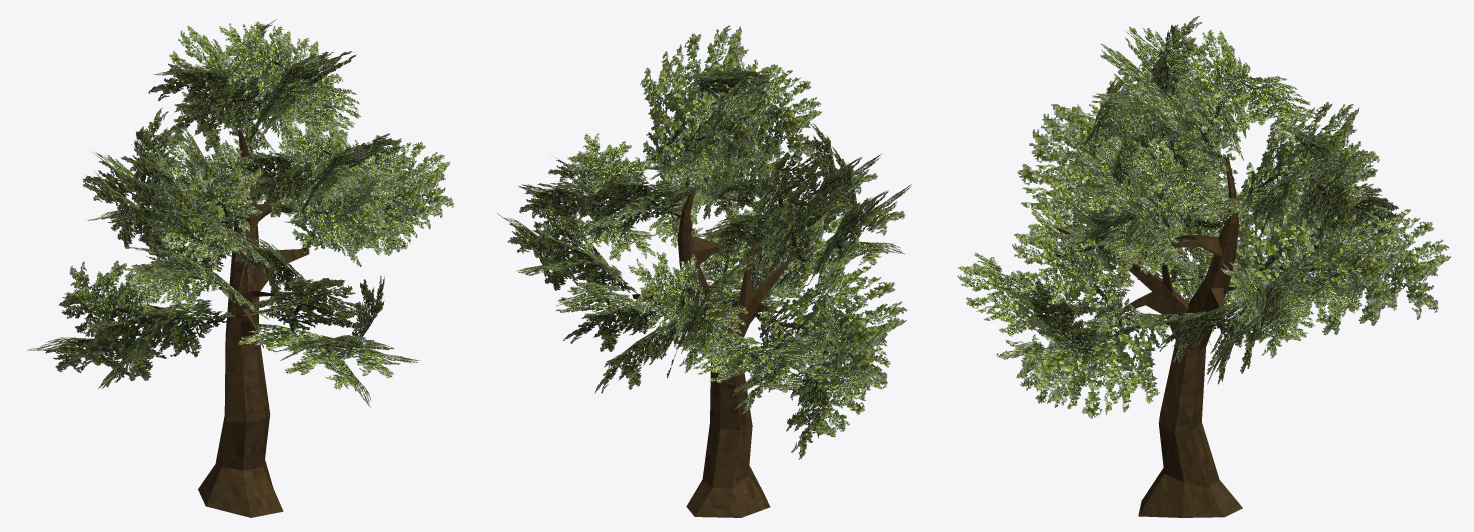
File: broadleaf.glb
3 views of the same model, side by side, from view 1: azimuth 30°, elevation 25°; view 2: azimuth 150°, elevation 25°; view 3: azimuth 270°, elevation 25° (orthographic). The views are drawn at different scales.
Parts seen in each view (by area): view 1: Plane.001; view 2: Plane.001; view 3: Plane.001.
Part boxes in pixels (x1=…): Plane.001: x1=27, y1=19, x2=454, y2=517; Plane.001: x1=497, y1=25, x2=911, y2=517; Plane.001: x1=957, y1=15, x2=1451, y2=517.
Bounding box in the file's own units: 15.52 × 16.83 × 16.
Materials: 1 (1 with a texture image).
